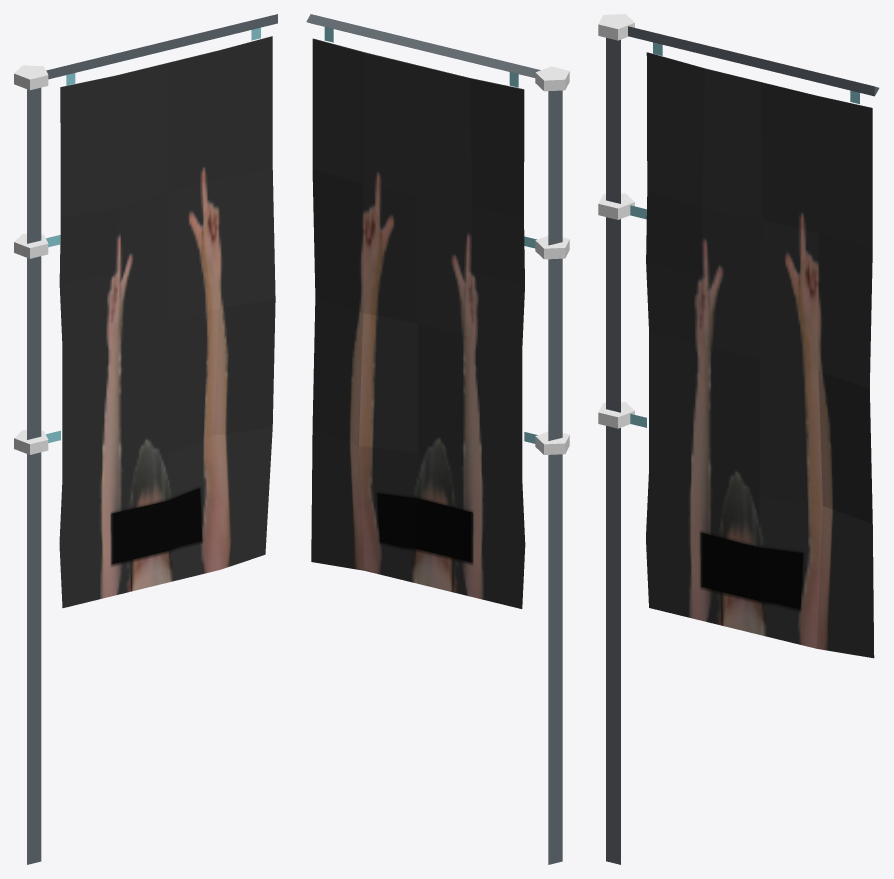
Rendered from hataf.fbx.
The picture shows the model from 3 angles, left to right: view 1: azimuth 30°, elevation 25°; view 2: azimuth 150°, elevation 25°; view 3: azimuth 330°, elevation 25°; orthographic projection. The views are drawn at different scales.
Parts seen in each view (by area): view 1: 平面, 円柱, 円柱.004, 円柱.003, 円柱.001, 円柱.002; view 2: 平面, 円柱, 円柱.004, 円柱.003, 円柱.001, 円柱.002; view 3: 平面, 円柱, 円柱.004, 円柱.003, 円柱.002, 円柱.001.
Part boxes in pixels (bbox=[...]): 平面: bbox=[59, 36, 275, 607]; 円柱: bbox=[27, 87, 41, 864]; 円柱.004: bbox=[46, 14, 277, 79]; 円柱.003: bbox=[14, 65, 48, 90]; 円柱.001: bbox=[14, 430, 48, 454]; 円柱.002: bbox=[14, 234, 48, 258]; 平面: bbox=[311, 38, 525, 608]; 円柱: bbox=[548, 90, 562, 864]; 円柱.004: bbox=[306, 14, 540, 77]; 円柱.003: bbox=[535, 66, 569, 91]; 円柱.001: bbox=[535, 431, 569, 454]; 円柱.002: bbox=[535, 236, 569, 259]; 平面: bbox=[646, 52, 874, 658]; 円柱: bbox=[606, 38, 620, 864]; 円柱.004: bbox=[628, 26, 879, 96]; 円柱.003: bbox=[598, 14, 634, 40]; 円柱.002: bbox=[598, 193, 634, 219]; 円柱.001: bbox=[598, 402, 634, 428].
Size of the model in its own units: 56.98 by 166 by 6.26.
